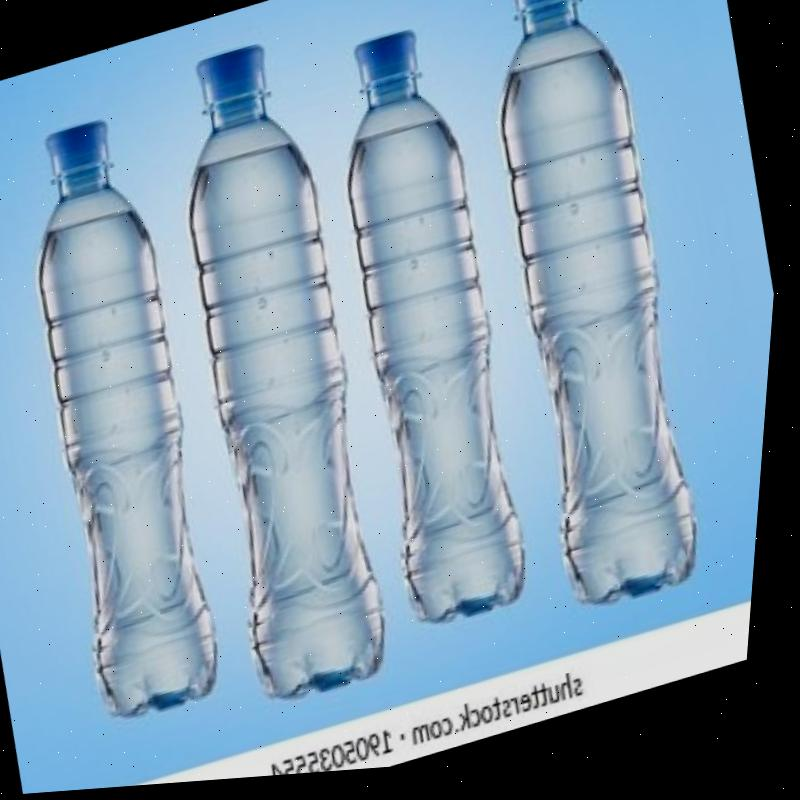botella: (120, 23, 445, 725), (428, 0, 758, 635), (284, 14, 584, 648), (0, 102, 274, 744)
